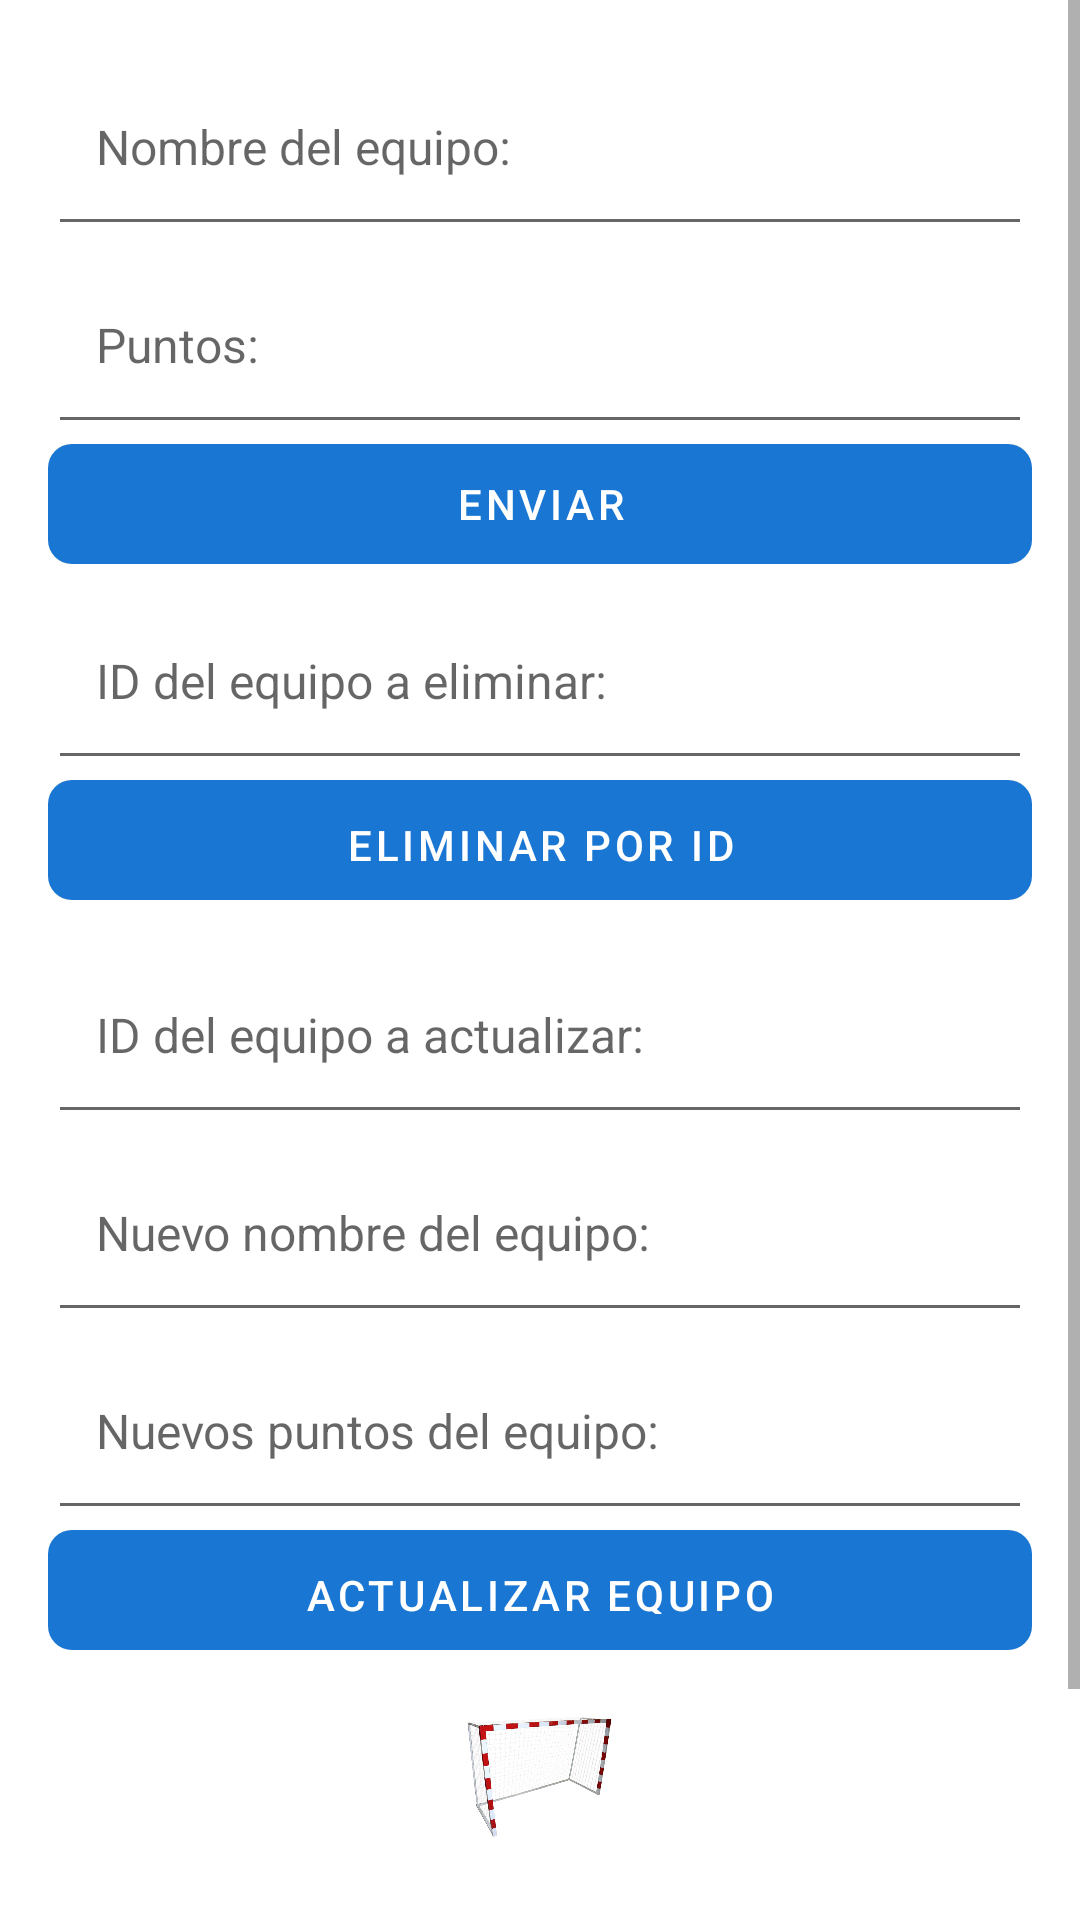

Icon bounding boxes for this 1080×1920 phone screenshot, format (x1, y1, x2, y2):
porteria: (468, 1717, 612, 1837)
